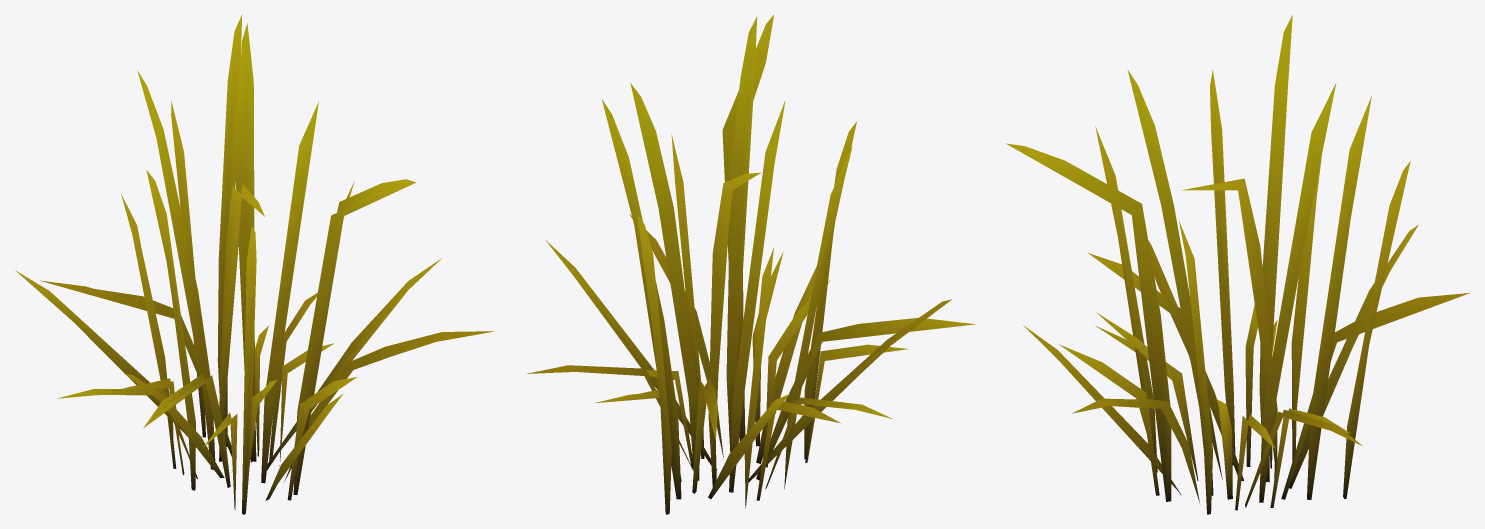
The model's file is Grass_Wispy_Tall.gltf.
The picture shows the model from 3 angles, left to right: view 1: azimuth 30°, elevation 25°; view 2: azimuth 150°, elevation 25°; view 3: azimuth 270°, elevation 25°; orthographic projection. The views are drawn at different scales.
Visible parts, largest first — view 1: Grass_Wispy_Tall; view 2: Grass_Wispy_Tall; view 3: Grass_Wispy_Tall.
Part boxes in pixels (x1,y1,x2,y2): Grass_Wispy_Tall: (15, 14, 494, 514); Grass_Wispy_Tall: (526, 15, 974, 514); Grass_Wispy_Tall: (1005, 15, 1469, 514).
Size of the model in its own units: 1.54 by 1.66 by 1.59.
Materials: 1 (1 with a texture image).
